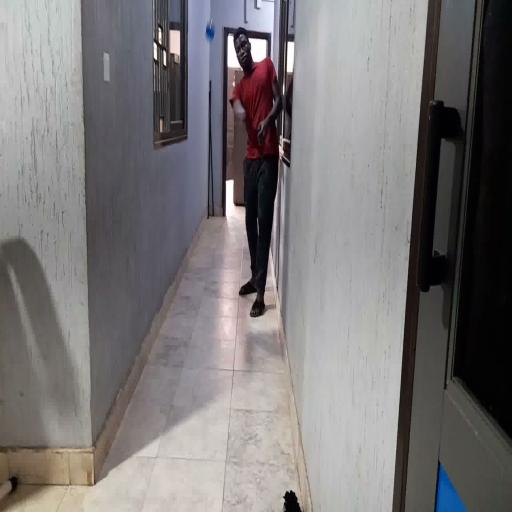plastic-ball: (204, 19, 216, 44)
